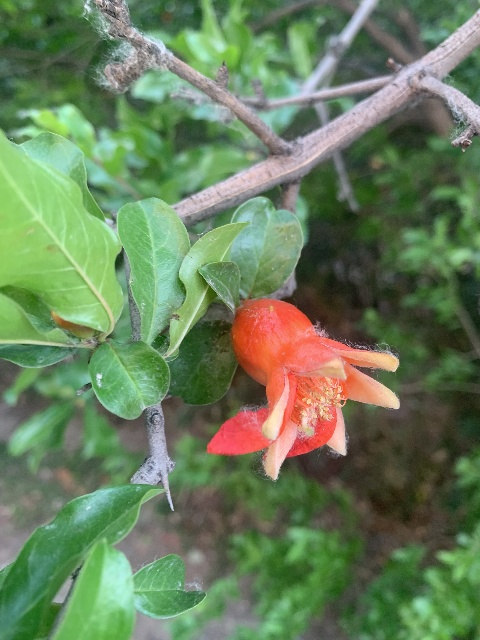flower: (206, 298, 400, 480)
